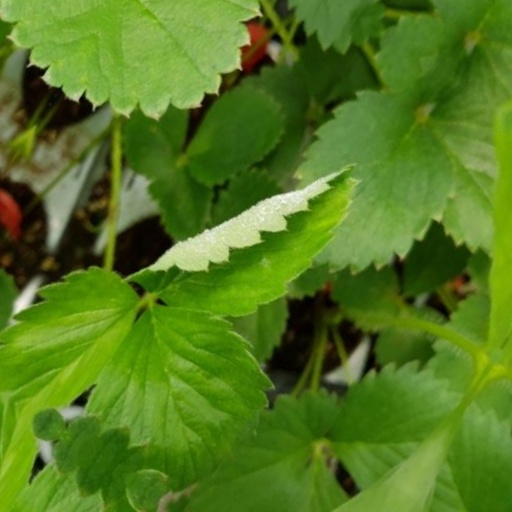Powdery Mildew Leaf: (158, 120, 311, 354)
